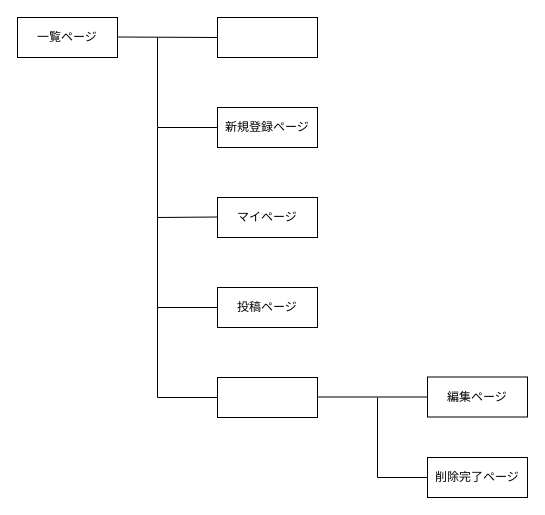
The diagram is 545 pixels wide and 515 high, and some of its shapes have lost their labels. Here are the shapes that lost their labels. From the top down, the centre of each, then its label:
At (x=267, y=37): "ログインページ".
At (x=267, y=397): "詳細ページ".
